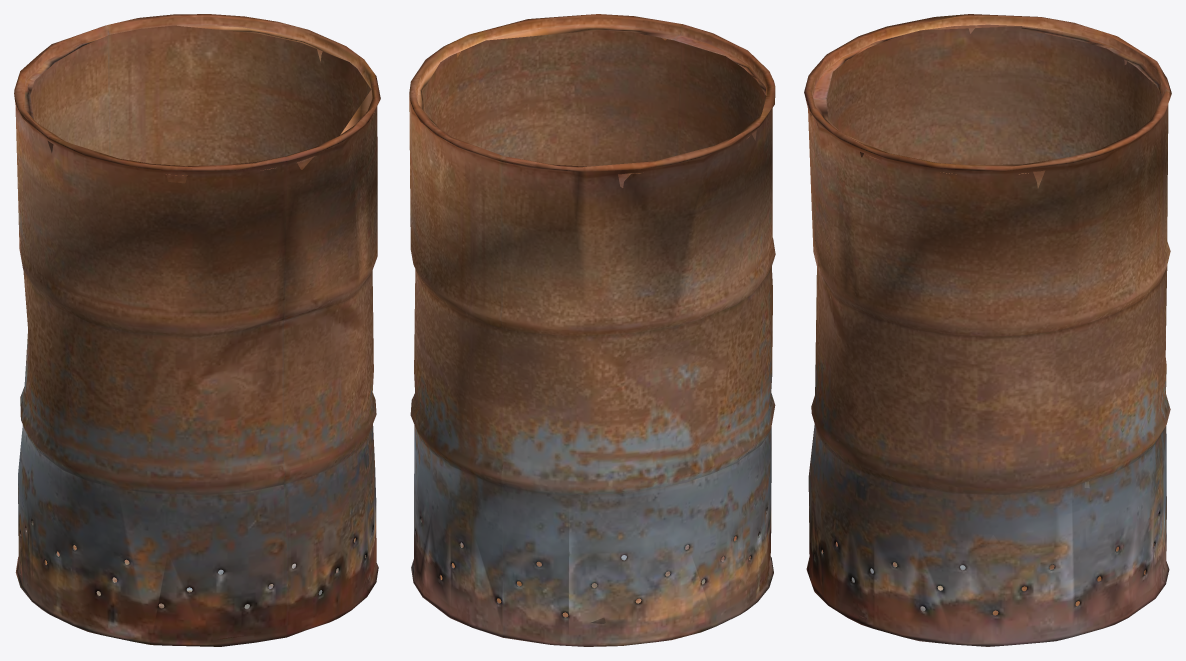
Rendered from barrel_stove.glb.
3 views of the same model, side by side, from view 1: azimuth 30°, elevation 25°; view 2: azimuth 150°, elevation 25°; view 3: azimuth 270°, elevation 25° (orthographic).
Visible parts, largest first — view 1: barrel_stove; view 2: barrel_stove; view 3: barrel_stove.
Part boxes in pixels (<box>): barrel_stove: <box>14,14,380,646</box>; barrel_stove: <box>409,14,775,646</box>; barrel_stove: <box>804,14,1171,646</box>.
Size of the model in its own units: 0.5886 by 0.8556 by 0.5926.
1 material, 1 textured.
